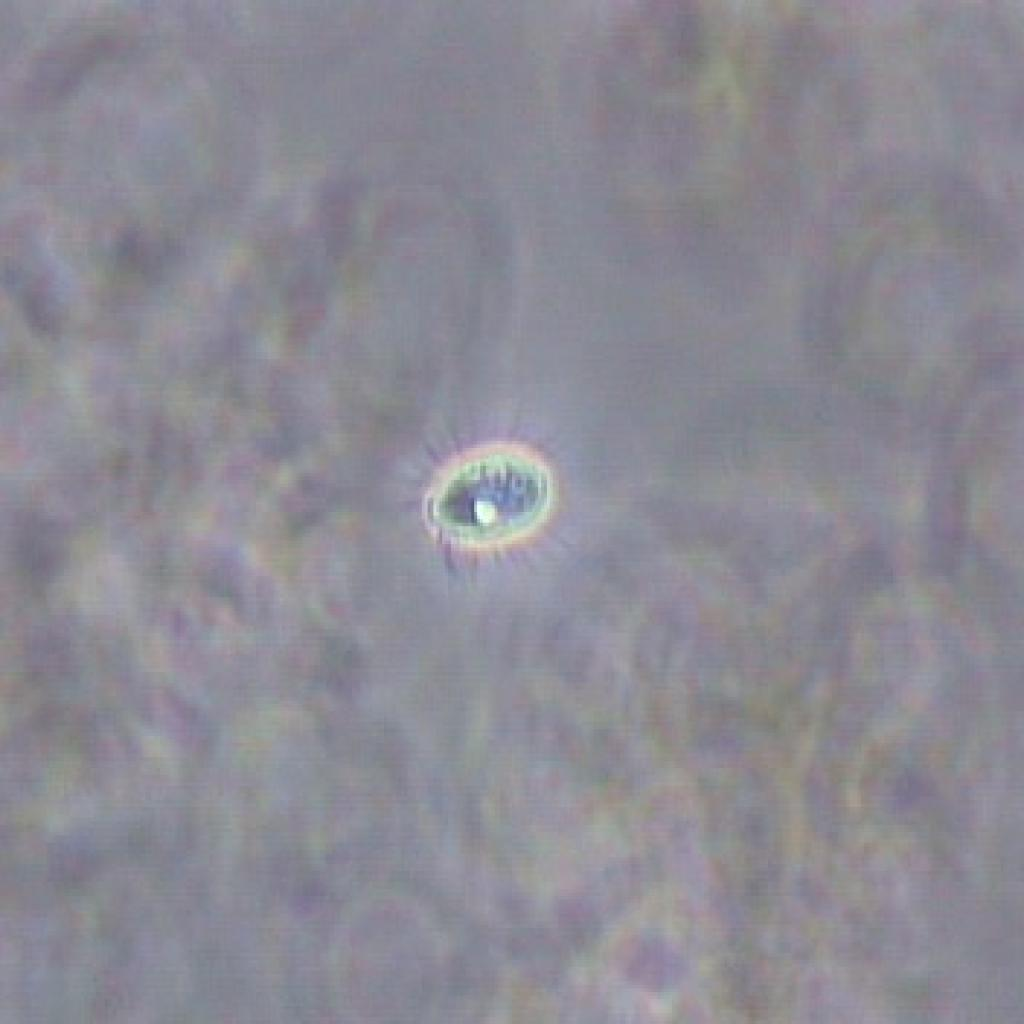Cyclidium: (378, 412, 599, 586)
